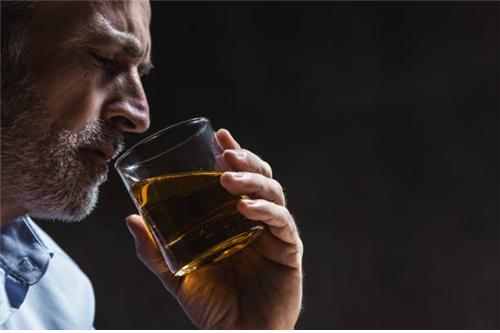alcohol: (114, 116, 268, 279)
